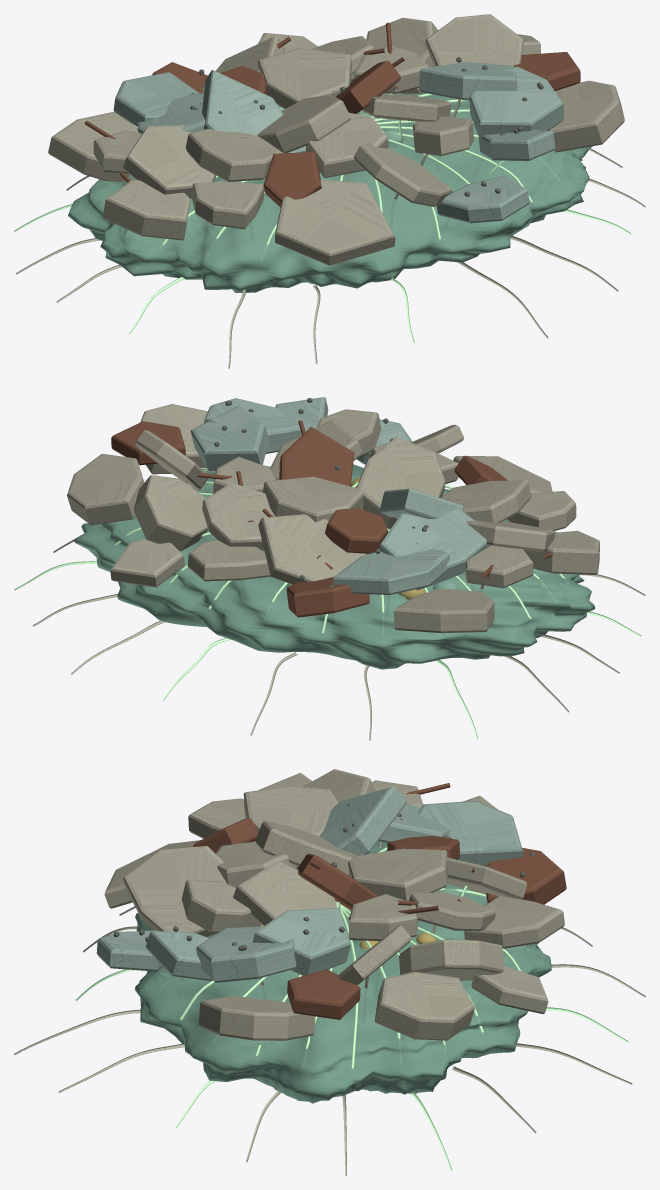
File: shellscape.glb
3 renders of one model, top to bottom at view 1: azimuth 30°, elevation 25°; view 2: azimuth 150°, elevation 25°; view 3: azimuth 270°, elevation 25°, orthographic. The views are drawn at different scales.
Visible parts, largest first — view 1: BorrowedLandscape, LivingMembrane; view 2: BorrowedLandscape, LivingMembrane; view 3: BorrowedLandscape, LivingMembrane.
Boxes of the visible parts, bbox=[...] form: BorrowedLandscape: bbox=[14, 14, 645, 368]; LivingMembrane: bbox=[68, 81, 592, 292]; BorrowedLandscape: bbox=[14, 397, 645, 740]; LivingMembrane: bbox=[74, 464, 594, 669]; BorrowedLandscape: bbox=[14, 769, 645, 1175]; LivingMembrane: bbox=[135, 841, 551, 1103].
Bounding box in the file's own units: 5.36 × 1.63 × 4.81.
20 materials, 2 textured.
